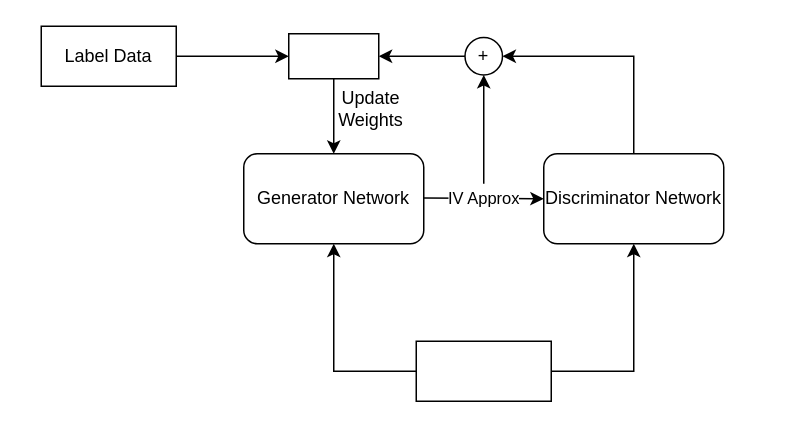
This 786x428 diagram has some shape labels left out. The centre of each missing label's shape, as x and y in pixels:
"Input Data" goes at pixel 483 370.
"L G" goes at pixel 333 55.
